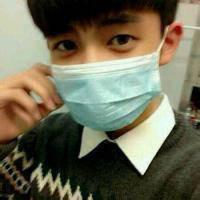face_mask: (41, 0, 161, 130)
